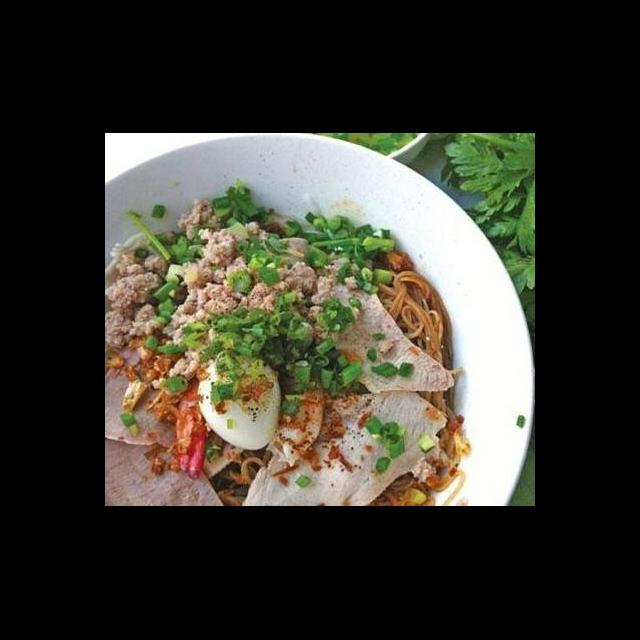banh hu tieu: (314, 250, 459, 402)
hu tieu: (105, 160, 535, 506), (368, 258, 465, 372)
thit bam: (106, 192, 342, 382)
thit heo: (236, 384, 453, 506), (106, 332, 207, 454), (106, 418, 232, 507)
trung: (193, 354, 285, 454)
